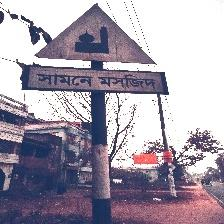Mosque in front: (22, 2, 167, 96)
